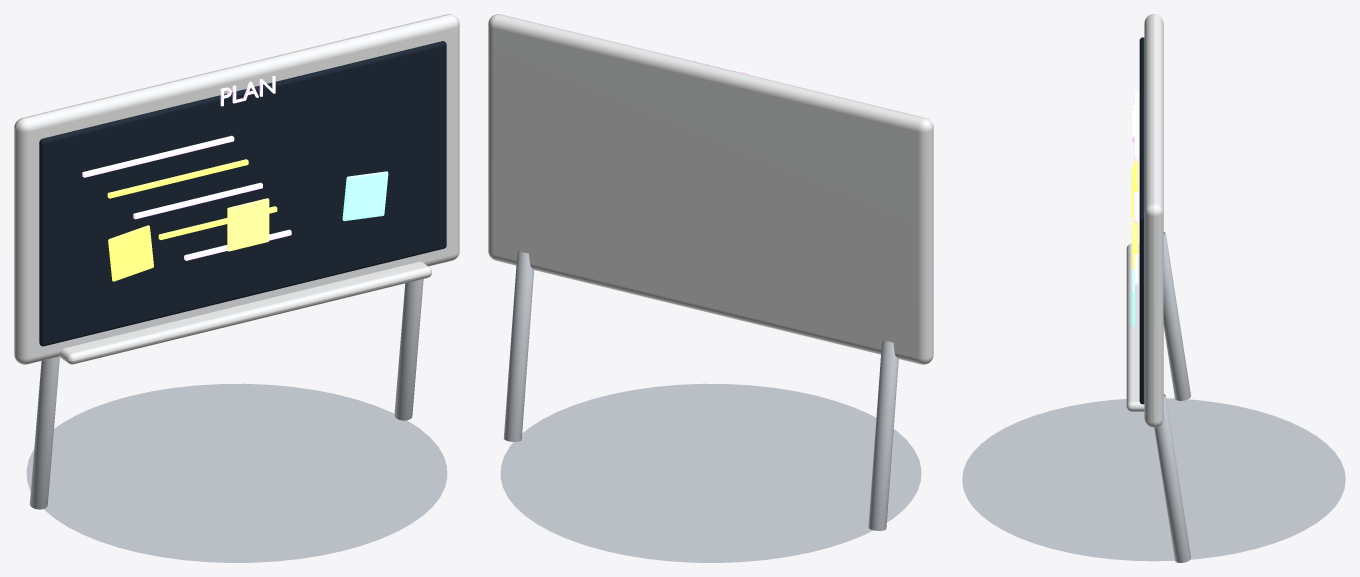
File: whiteboard.glb
3 renders of one model, left to right at view 1: azimuth 30°, elevation 25°; view 2: azimuth 150°, elevation 25°; view 3: azimuth 270°, elevation 25°, orthographic. The views are drawn at different scales.
Parts seen in each view (by area): view 1: whiteboard_glass_surface, whiteboard_contact_shadow, whiteboard_white_frame, whiteboard_tray, whiteboard_leg_-0.7, whiteboard_leg_0.7, whiteboard_note_1, whiteboard_note_2, whiteboard_note_0, whiteboard_data_line_0, whiteboard_data_line_1, whiteboard_data_line_2 (+1 smaller); view 2: whiteboard_white_frame, whiteboard_contact_shadow, whiteboard_leg_-0.7, whiteboard_leg_0.7; view 3: whiteboard_contact_shadow, whiteboard_white_frame, whiteboard_leg_0.7, whiteboard_leg_-0.7, whiteboard_glass_surface, whiteboard_tray.
Boxes of the visible parts, left/top/right/bottom form: whiteboard_glass_surface: left=39, top=41, right=446, bottom=346; whiteboard_contact_shadow: left=27, top=384, right=446, bottom=562; whiteboard_white_frame: left=14, top=14, right=459, bottom=364; whiteboard_tray: left=59, top=261, right=431, bottom=364; whiteboard_leg_-0.7: left=29, top=356, right=59, bottom=509; whiteboard_leg_0.7: left=394, top=279, right=423, bottom=420; whiteboard_note_1: left=227, top=198, right=269, bottom=251; whiteboard_note_2: left=342, top=171, right=388, bottom=221; whiteboard_note_0: left=108, top=225, right=153, bottom=281; whiteboard_data_line_0: left=82, top=135, right=234, bottom=177; whiteboard_data_line_1: left=107, top=159, right=248, bottom=198; whiteboard_data_line_2: left=133, top=182, right=262, bottom=219; whiteboard_white_frame: left=488, top=14, right=933, bottom=364; whiteboard_contact_shadow: left=501, top=384, right=920, bottom=562; whiteboard_leg_-0.7: left=868, top=340, right=898, bottom=530; whiteboard_leg_0.7: left=503, top=251, right=533, bottom=441; whiteboard_contact_shadow: left=962, top=398, right=1345, bottom=560; whiteboard_white_frame: left=1144, top=14, right=1163, bottom=427; whiteboard_leg_0.7: left=1154, top=394, right=1190, bottom=562; whiteboard_leg_-0.7: left=1163, top=232, right=1190, bottom=400; whiteboard_glass_surface: left=1139, top=37, right=1144, bottom=404; whiteboard_tray: left=1126, top=243, right=1144, bottom=411.
Size of the model in its own units: 1.7 by 1.49 by 1.4.
